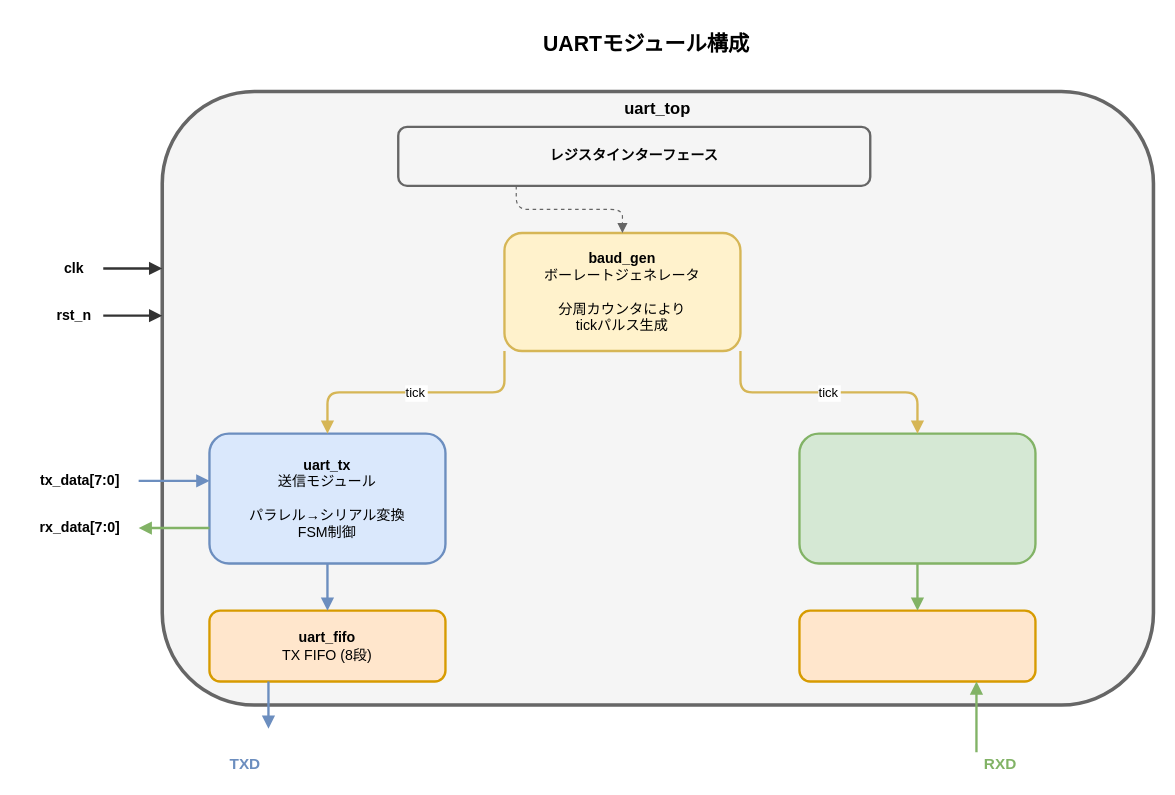
Some shapes in this 1175 by 795 pixel diagram are drawn without their labels. Each missing label, with the box of its shape:
uart_fifo RX FIFO (8段): (798, 609, 1036, 682)
uart_rx 受信モジュール シリアル→パラレル変換 サンプリング制御: (798, 432, 1036, 564)
